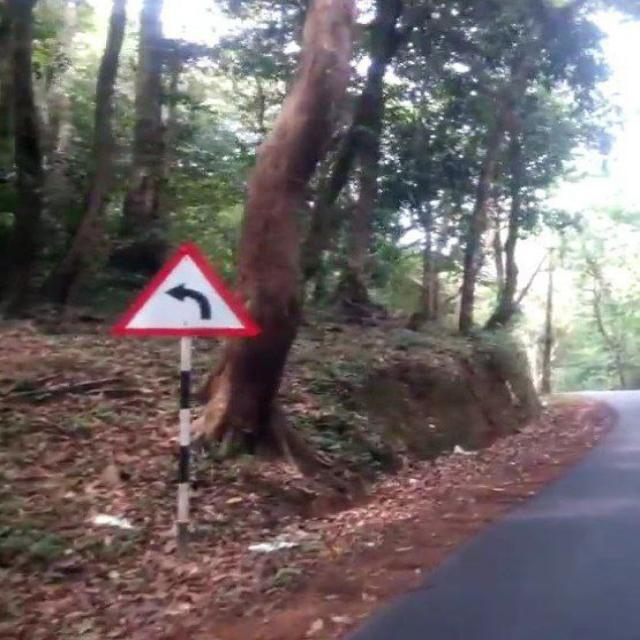left hand curve: (106, 239, 266, 340)
